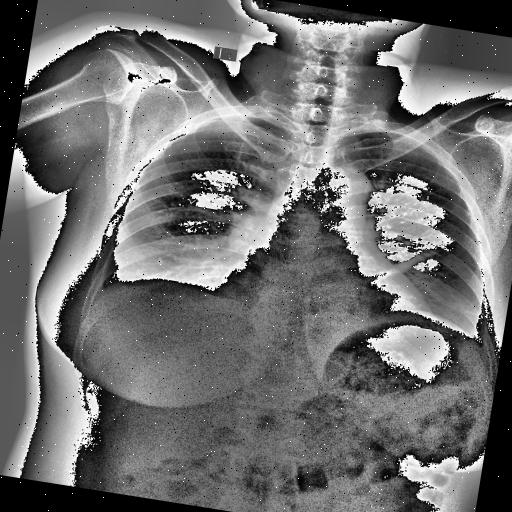0- Aortic enlargement: (318, 164, 375, 220), (313, 159, 372, 213)
13- Pulmonary fibrosis: (366, 234, 438, 295), (354, 238, 435, 292), (358, 238, 436, 294)
3- Cardiomegaly: (214, 256, 440, 331), (214, 258, 434, 323)
9- Other lesion: (358, 238, 436, 294)
